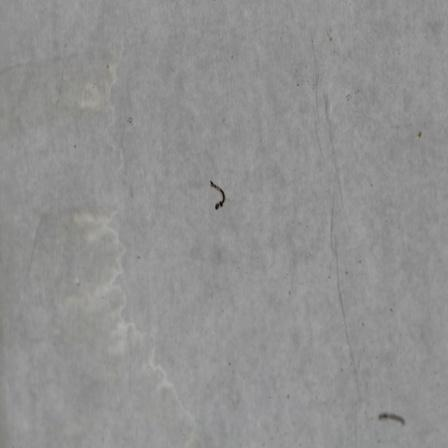Jentik-Nyamuk: (208, 178, 230, 215)
